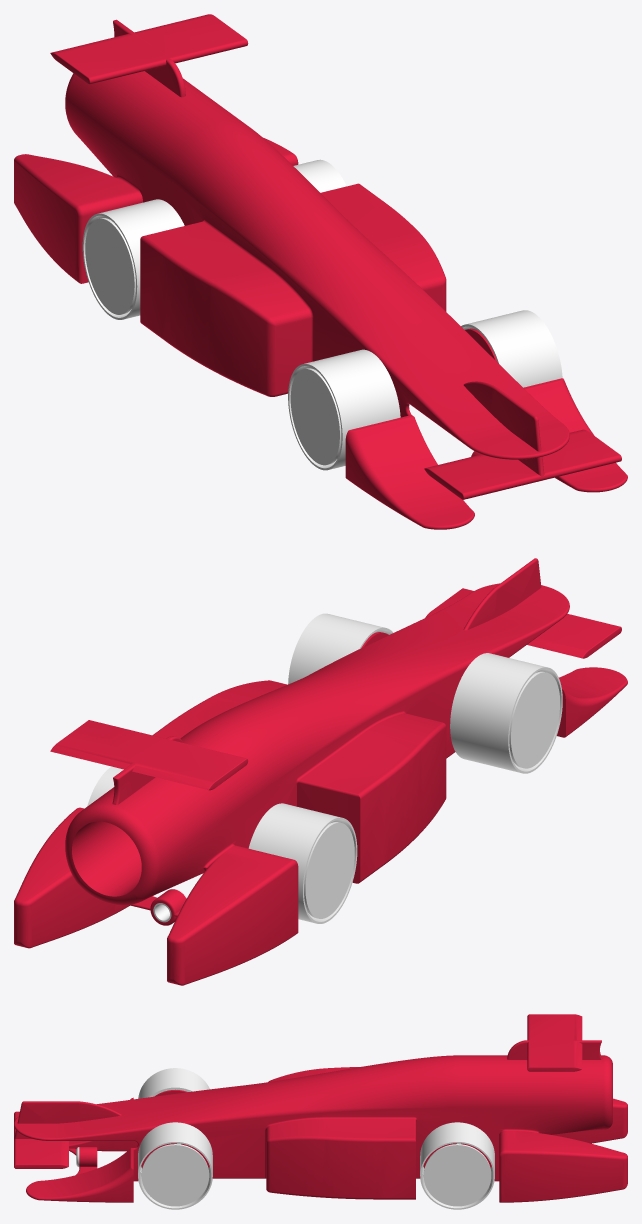
The picture shows the model from 3 angles, top to bottom: view 1: azimuth 30°, elevation 25°; view 2: azimuth 150°, elevation 25°; view 3: azimuth 270°, elevation 25°; orthographic projection. The views are drawn at different scales.
Visible parts, largest first — view 1: Assembly_finales_Auto_Prototyp (1), Assembly_finales_Auto_Prototyp (1).001, Assembly_finales_Auto_Prototyp (1).004, Assembly_finales_Auto_Prototyp (1).002, Assembly_finales_Auto_Prototyp (1).003; view 2: Assembly_finales_Auto_Prototyp (1), Assembly_finales_Auto_Prototyp (1).001, Assembly_finales_Auto_Prototyp (1).004, Assembly_finales_Auto_Prototyp (1).002; view 3: Assembly_finales_Auto_Prototyp (1), Assembly_finales_Auto_Prototyp (1).002, Assembly_finales_Auto_Prototyp (1).003, Assembly_finales_Auto_Prototyp (1).001.
Part boxes in pixels (box(x1,y1,x2,y2)): Assembly_finales_Auto_Prototyp (1): box(14, 14, 627, 529); Assembly_finales_Auto_Prototyp (1).001: box(288, 349, 400, 470); Assembly_finales_Auto_Prototyp (1).004: box(82, 199, 184, 319); Assembly_finales_Auto_Prototyp (1).002: box(461, 310, 562, 387); Assembly_finales_Auto_Prototyp (1).003: box(293, 159, 346, 192); Assembly_finales_Auto_Prototyp (1): box(14, 558, 627, 985); Assembly_finales_Auto_Prototyp (1).001: box(450, 653, 562, 773); Assembly_finales_Auto_Prototyp (1).004: box(248, 803, 357, 923); Assembly_finales_Auto_Prototyp (1).002: box(288, 613, 393, 684); Assembly_finales_Auto_Prototyp (1): box(14, 1014, 627, 1202); Assembly_finales_Auto_Prototyp (1).002: box(138, 1122, 212, 1209); Assembly_finales_Auto_Prototyp (1).003: box(420, 1122, 494, 1209); Assembly_finales_Auto_Prototyp (1).001: box(138, 1068, 209, 1098).
Bounding box in the file's own units: 11.23 × 9.38 × 39.48.
